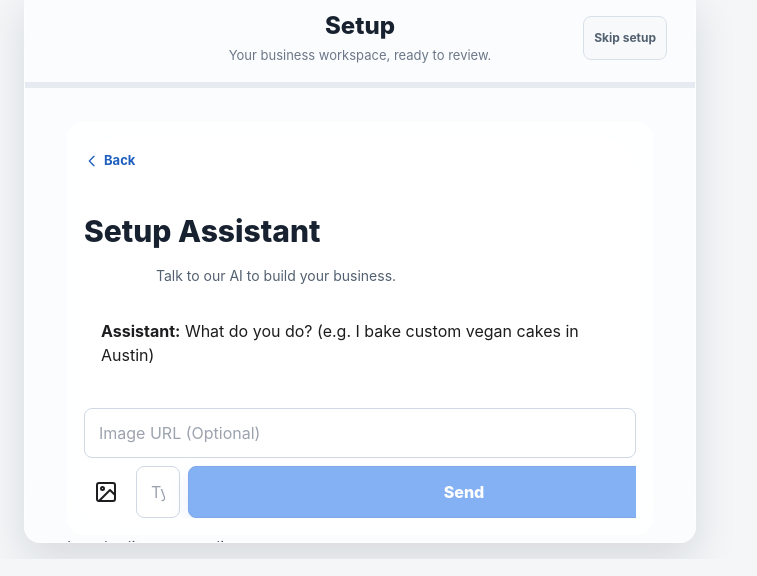
Test case: enables actual chat text and sends the existing reviewed chat request
In the field with placeholder "Type a message...": (158, 492) [136,466,180,518], type "I repair bicycles"
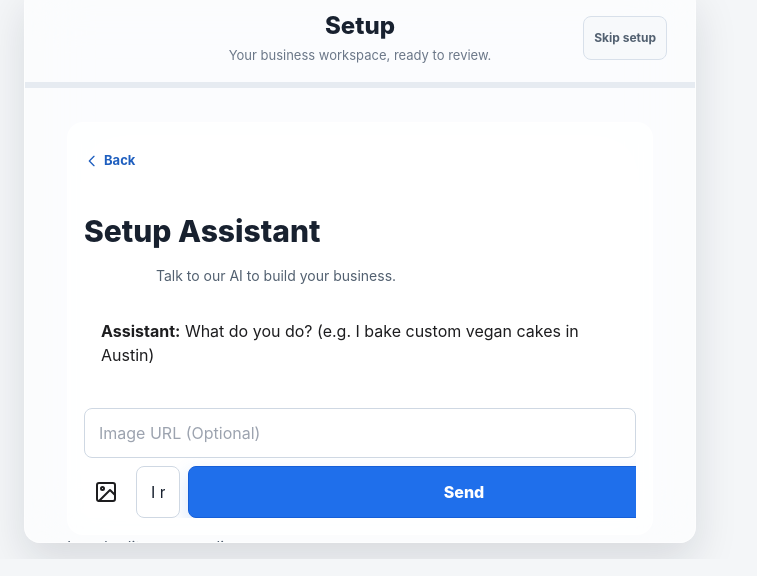
Now the button "Send" is enabled, box [188,466,636,518]
Click the button "Send": (464, 492) [188,466,740,518]
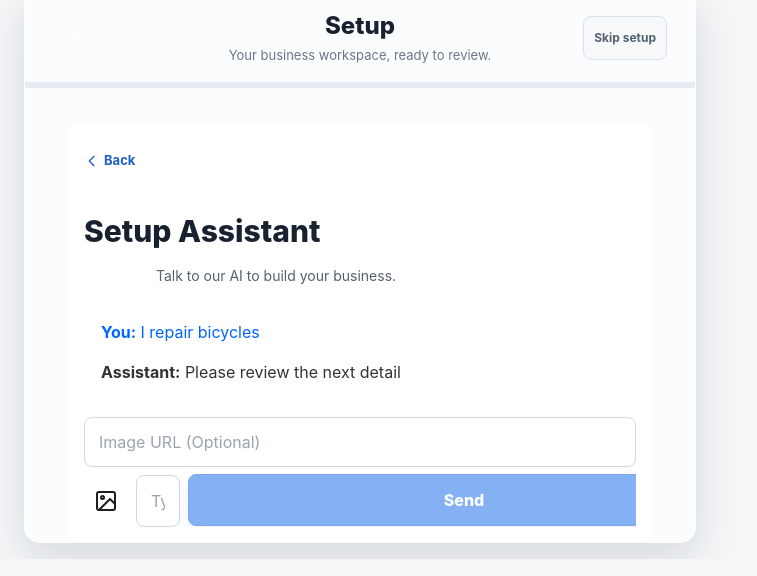
Now the text "Please review the next detail" is shown, box [185,362,401,382]
Now the button "Send" is disabled, box [188,475,636,527]
